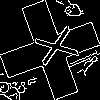X: (25, 25, 79, 72)
